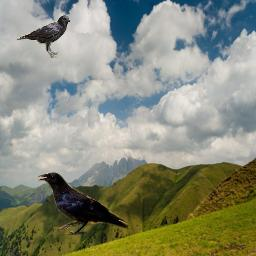Crow: (38, 172, 130, 235), (15, 15, 70, 58)
